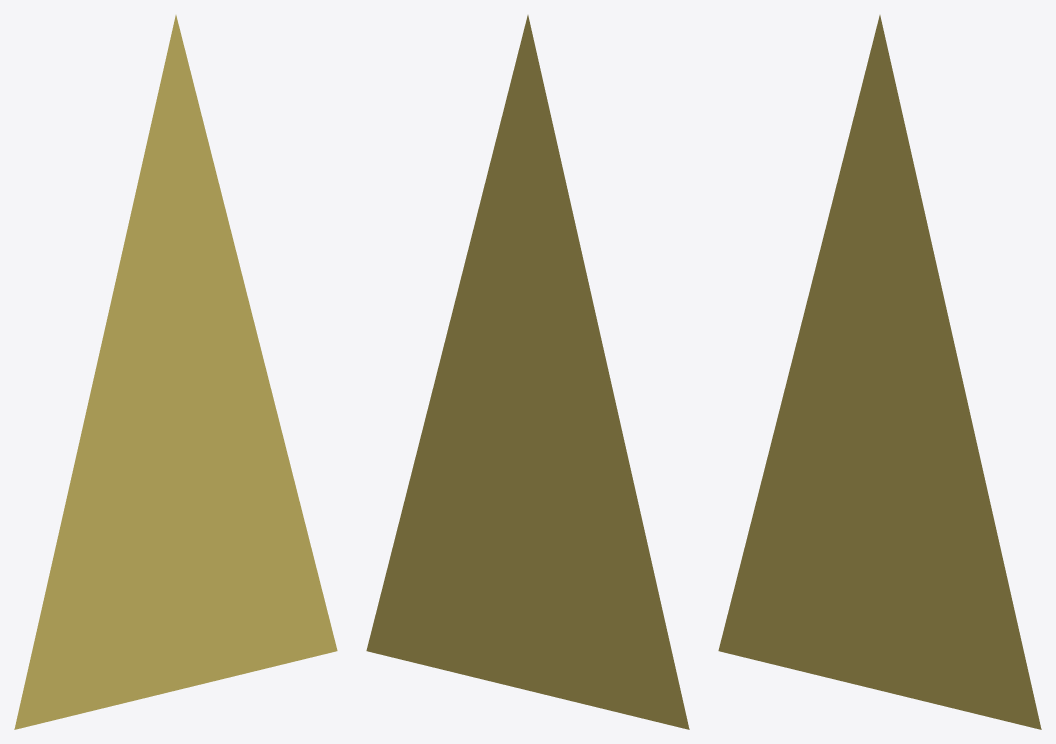
The model's file is minimal-model.glb.
The picture shows the model from 3 angles, left to right: view 1: azimuth 30°, elevation 25°; view 2: azimuth 150°, elevation 25°; view 3: azimuth 330°, elevation 25°; orthographic projection.
Visible parts, largest first — view 1: mascote-fixture; view 2: mascote-fixture; view 3: mascote-fixture.
Boxes of the visible parts, bbox=[...] form: mascote-fixture: bbox=[14, 15, 337, 729]; mascote-fixture: bbox=[366, 15, 689, 729]; mascote-fixture: bbox=[718, 15, 1041, 729].
Size of the model in its own units: 1 by 2 by 0.
